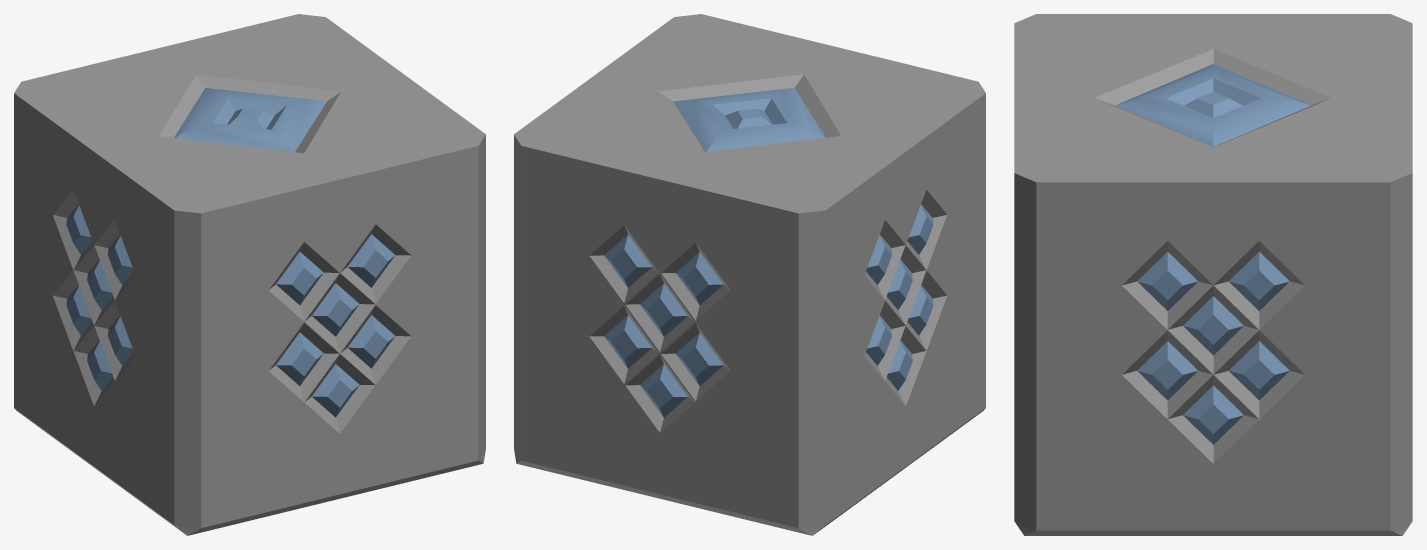
The model's file is PushableObject.fbx.
3 views of the same model, side by side, from view 1: azimuth 30°, elevation 25°; view 2: azimuth 150°, elevation 25°; view 3: azimuth 270°, elevation 25° (orthographic). The views are drawn at different scales.
Visible parts, largest first — view 1: pTorus29; view 2: pTorus29; view 3: pTorus29.
Part boxes in pixels (<box>): pTorus29: <box>14,14,485,535</box>; pTorus29: <box>514,14,985,535</box>; pTorus29: <box>1014,14,1412,535</box>.
Size of the model in its own units: 5.58 by 5.53 by 5.58.
